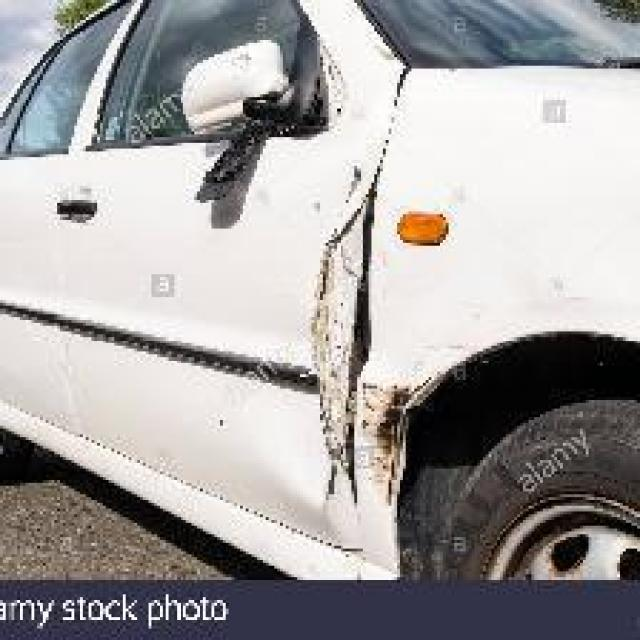damaged: (188, 82, 442, 514)
